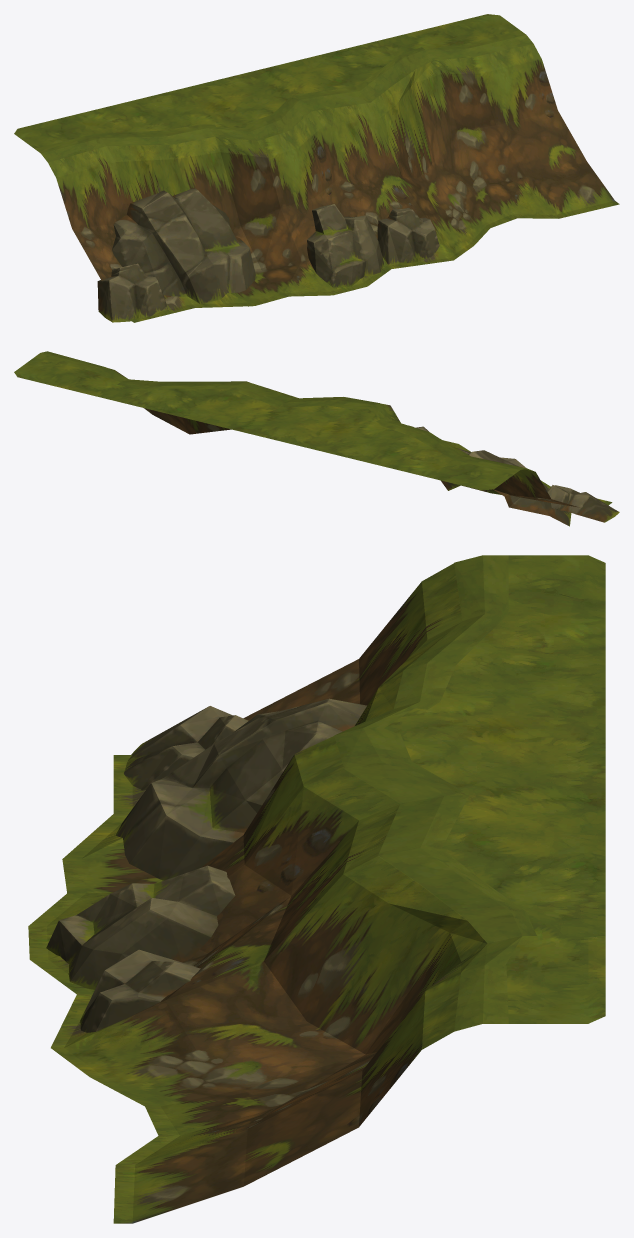
The model's file is tundra_straight_basecap01.fbx.
The picture shows the model from 3 angles, top to bottom: view 1: azimuth 30°, elevation 25°; view 2: azimuth 150°, elevation 25°; view 3: azimuth 270°, elevation 25°; orthographic projection. The views are drawn at different scales.
Visible parts, largest first — view 1: obj3.001; view 2: obj3.001; view 3: obj3.001.
Part boxes in pixels (x1,y1,x2,y2): obj3.001: (14,14,619,322); obj3.001: (14,351,619,526); obj3.001: (28,555,605,1223).
Bounding box in the file's own units: 20.63 × 4.42 × 10.41.
